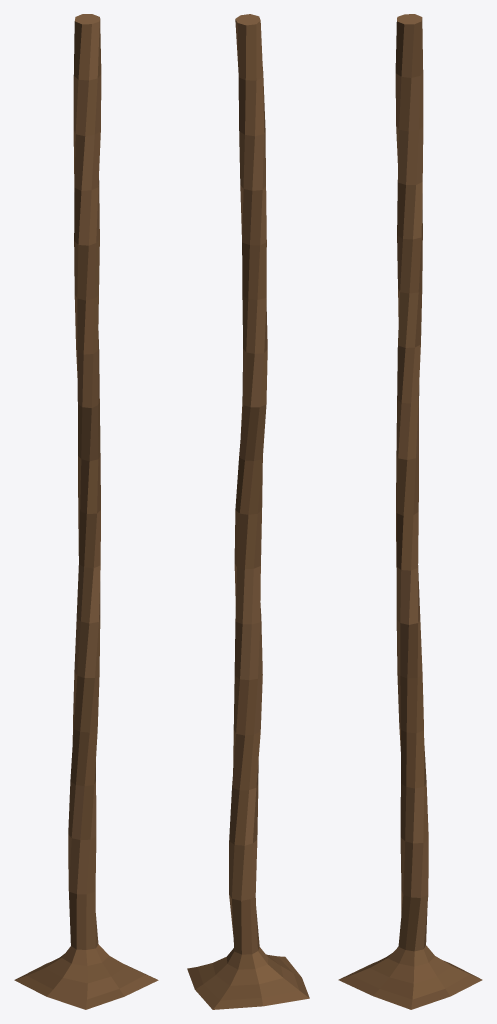
Rendered from left_tree.glb.
3 views of the same model, side by side, from view 1: azimuth 90°, elevation 25°; view 2: azimuth 150°, elevation 25°; view 3: azimuth 270°, elevation 25° (orthographic).
Visible parts, largest first — view 1: LeftTree; view 2: LeftTree; view 3: LeftTree.
Boxes of the visible parts, x1=… form: LeftTree: x1=14, y1=14, x2=158, y2=1009; LeftTree: x1=187, y1=14, x2=309, y2=1009; LeftTree: x1=338, y1=14, x2=482, y2=1009.
Size of the model in its own units: 1.23 by 9.2 by 1.26.
